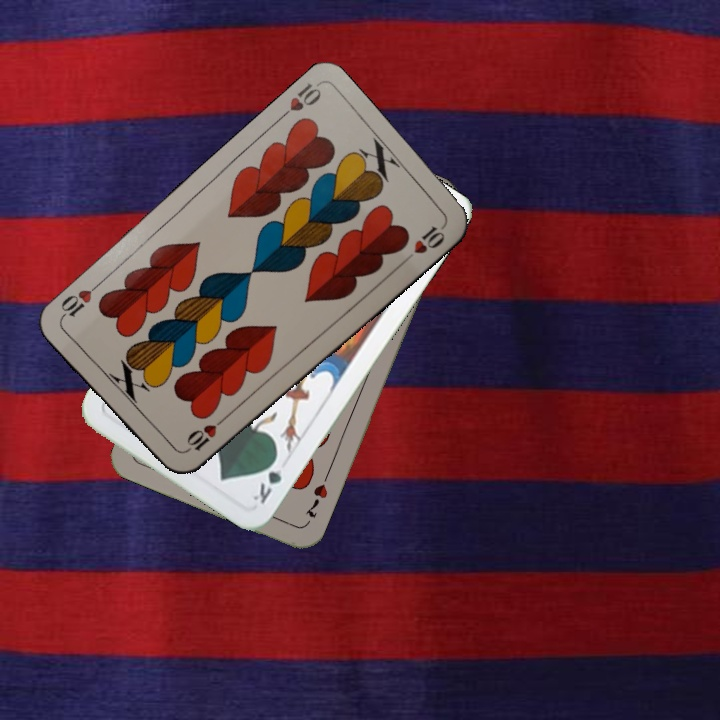GK: (249, 451, 285, 506)
H10: (273, 79, 324, 124), (181, 412, 230, 456)
H7: (301, 479, 331, 520)
